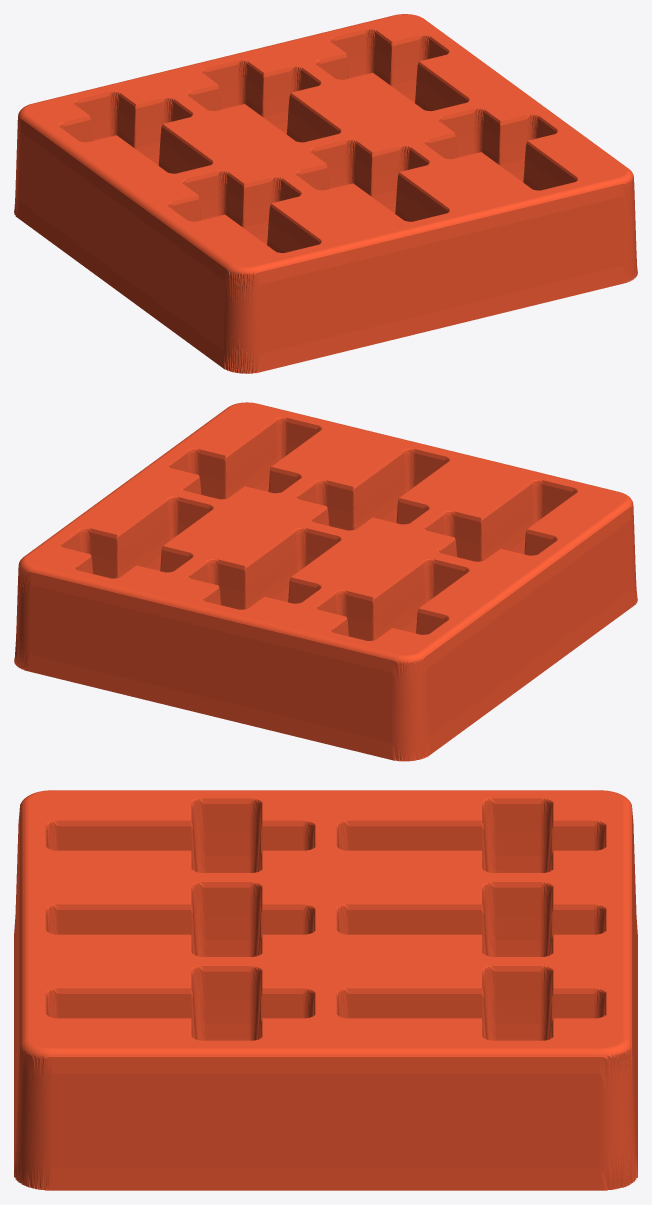
File: mold.glb
3 views of the same model, one above another, from view 1: azimuth 30°, elevation 25°; view 2: azimuth 150°, elevation 25°; view 3: azimuth 270°, elevation 25° (orthographic). The views are drawn at different scales.
Visible parts, largest first — view 1: geometry_0; view 2: geometry_0; view 3: geometry_0.
Part boxes in pixels (bbox=[...]): geometry_0: bbox=[14, 14, 637, 373]; geometry_0: bbox=[14, 402, 637, 761]; geometry_0: bbox=[14, 790, 637, 1190].
Size of the model in its own units: 0.1524 by 0.036 by 0.1492.
